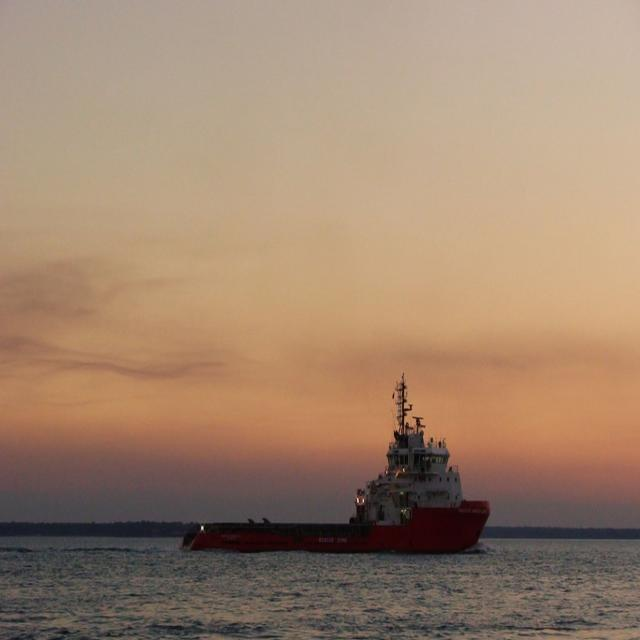Boat: (170, 392, 544, 599)
